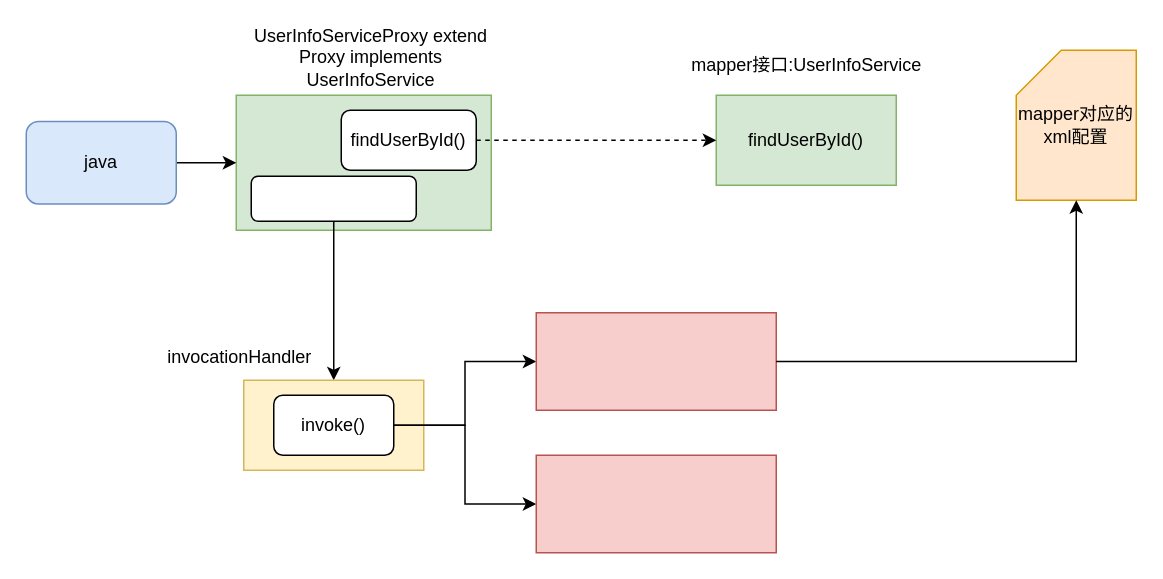
Image size: 1163x579. Some labels were removed from this diagram. Here are the shapes that lost their labels. From the top down, the centre of each, then its label:
At [333,198]: "MapperProxy".
At [655,360]: "1、通过方法名findUserById查询mapper对应的xml配置【在程序启动的时候就已经保存好了xml配置】".
At [655,503]: "2、执行executor中相关方法".
